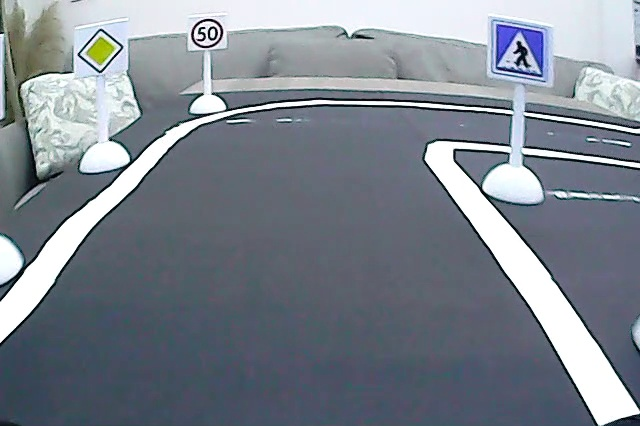pedestrian crossing: (488, 18, 549, 80)
speed limit 50: (190, 18, 223, 51)
